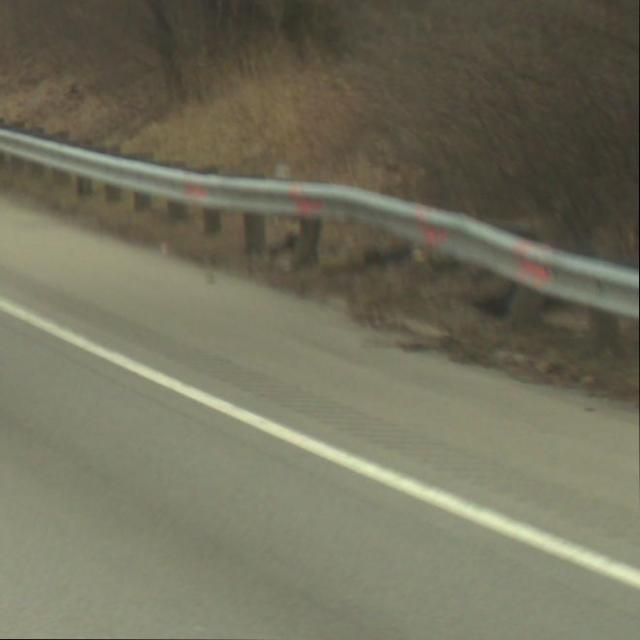Guard rail: (0, 115, 640, 364)
